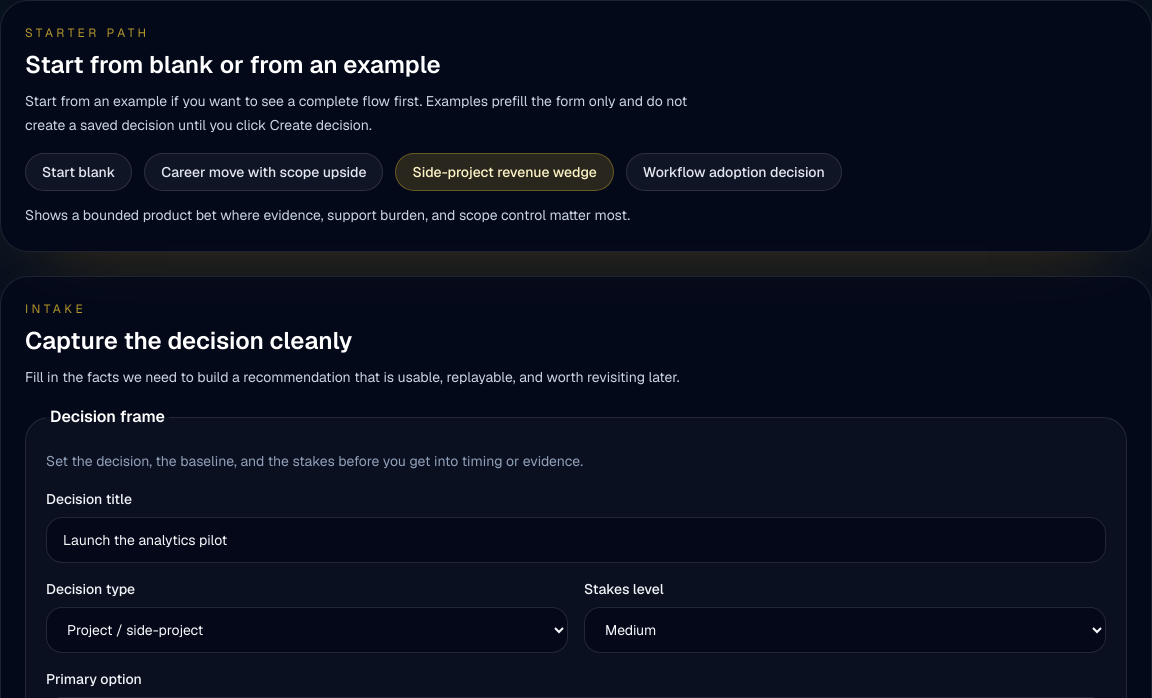
Test: decision intake form starter examples › prefills fields from a starter example without creating a decision
Expected: the field showing "Launch the analytics pilot" is shown, [46,517,1106,563]
Click the button "Career move with scope upside".
click(264, 172)  # box [144,153,384,191]
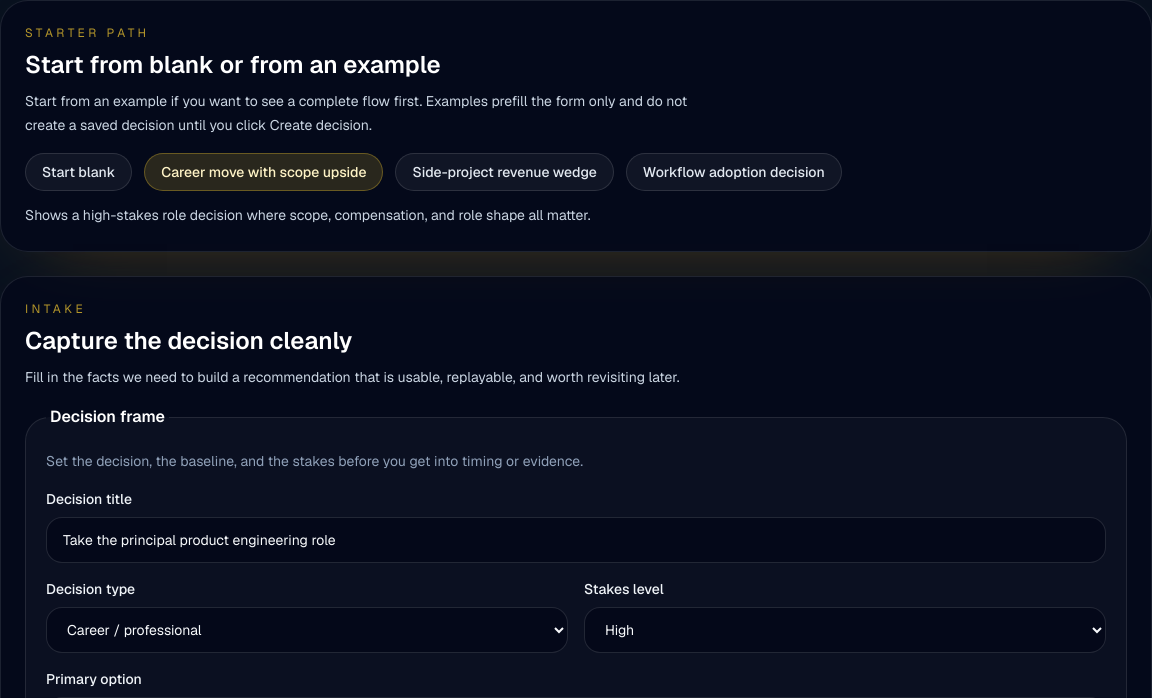
Result: the field showing "Take the principal product engineering role" is shown at [46,517,1106,563]
